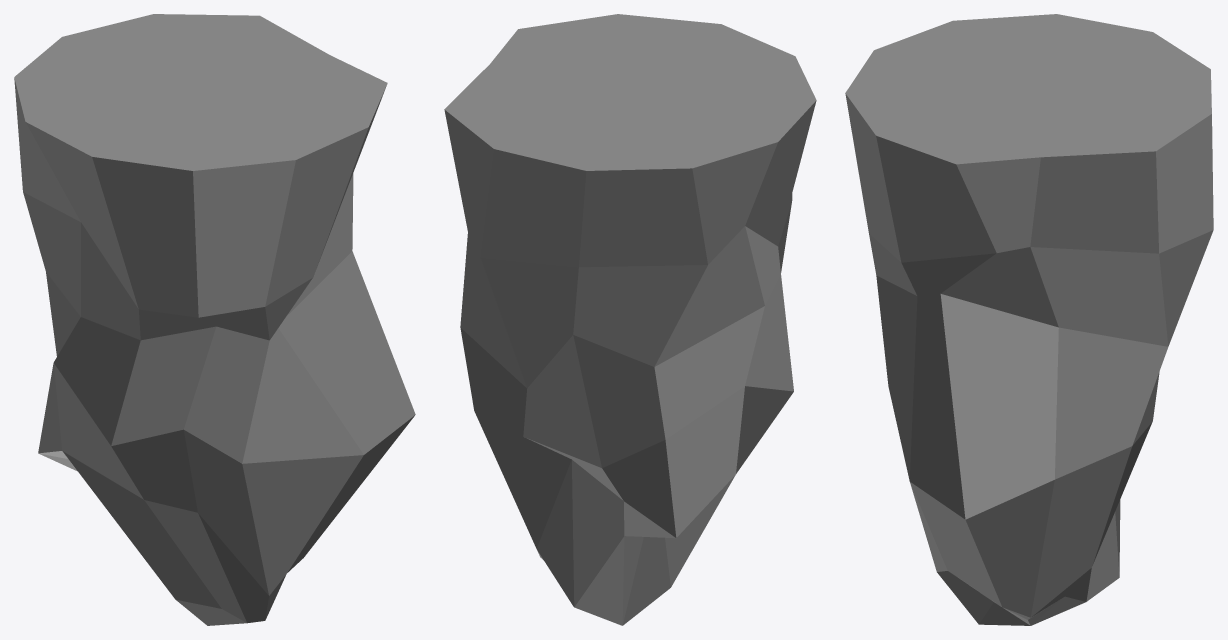
The model's file is Stalactite 4.fbx.
3 renders of one model, left to right at view 1: azimuth 30°, elevation 25°; view 2: azimuth 150°, elevation 25°; view 3: azimuth 270°, elevation 25°, orthographic.
Parts seen in each view (by area): view 1: Stalactite_4; view 2: Stalactite_4; view 3: Stalactite_4.
Boxes of the visible parts, x1,y1,x2,y2 form: Stalactite_4: (14, 14, 415, 625); Stalactite_4: (444, 14, 816, 625); Stalactite_4: (845, 14, 1213, 625).
Bounding box in the file's own units: 180 × 268 × 169.
1 material, 1 textured.
